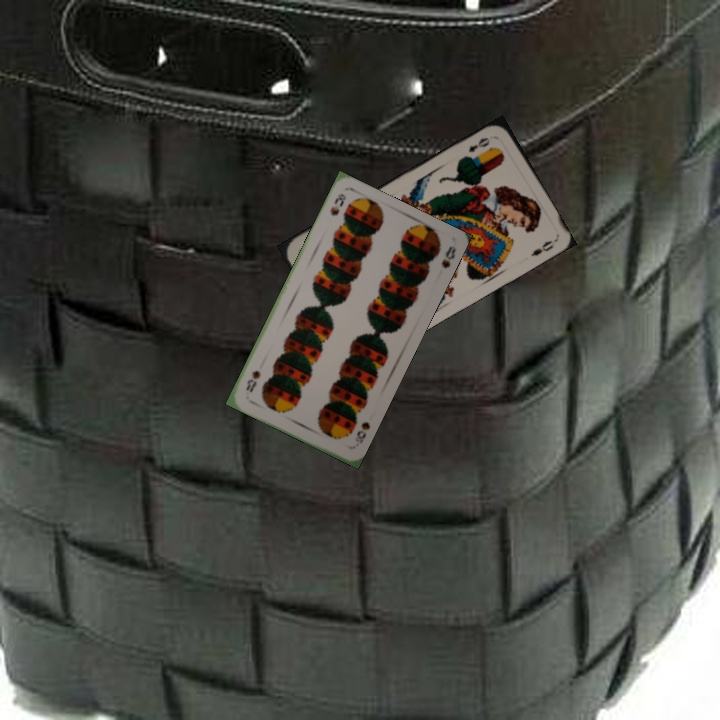EO: (464, 133, 493, 155)
S8: (326, 189, 348, 219), (351, 418, 373, 446)
